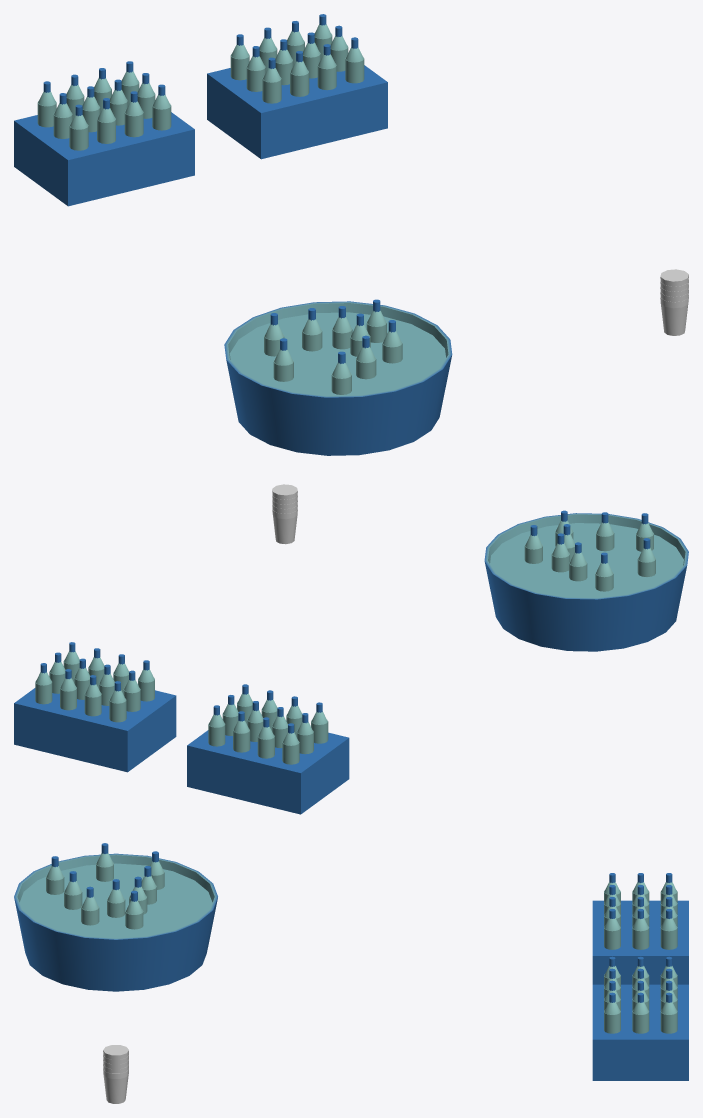
File: goods_ramune.glb
3 renders of one model, top to bottom at view 1: azimuth 30°, elevation 25°; view 2: azimuth 150°, elevation 25°; view 3: azimuth 270°, elevation 25°, orthographic. The views are drawn at different scales.
Visible parts, largest first — view 1: goods_ramune; view 2: goods_ramune; view 3: goods_ramune.
Boxes of the visible parts, x1=… form: goods_ramune: x1=14, y1=14, x2=688, y2=455; goods_ramune: x1=14, y1=484, x2=688, y2=814; goods_ramune: x1=14, y1=843, x2=688, y2=1103.
Size of the model in its own units: 1.62 by 0.3426 by 2.38.
